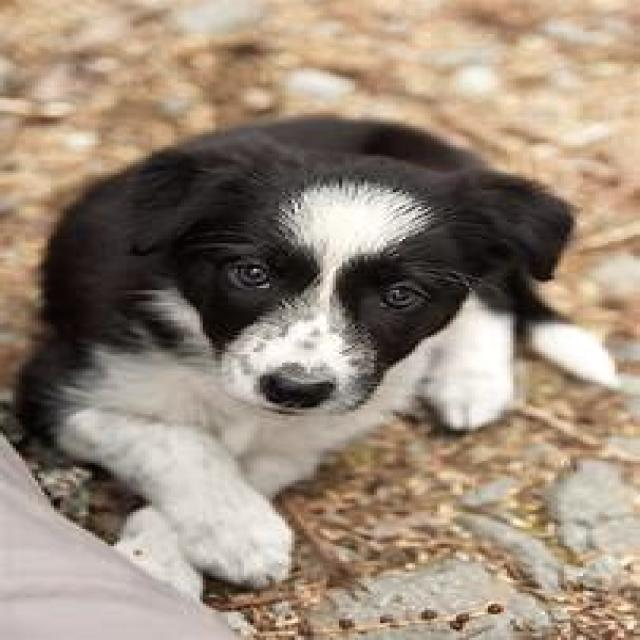KOPEK: (3, 95, 580, 595)
